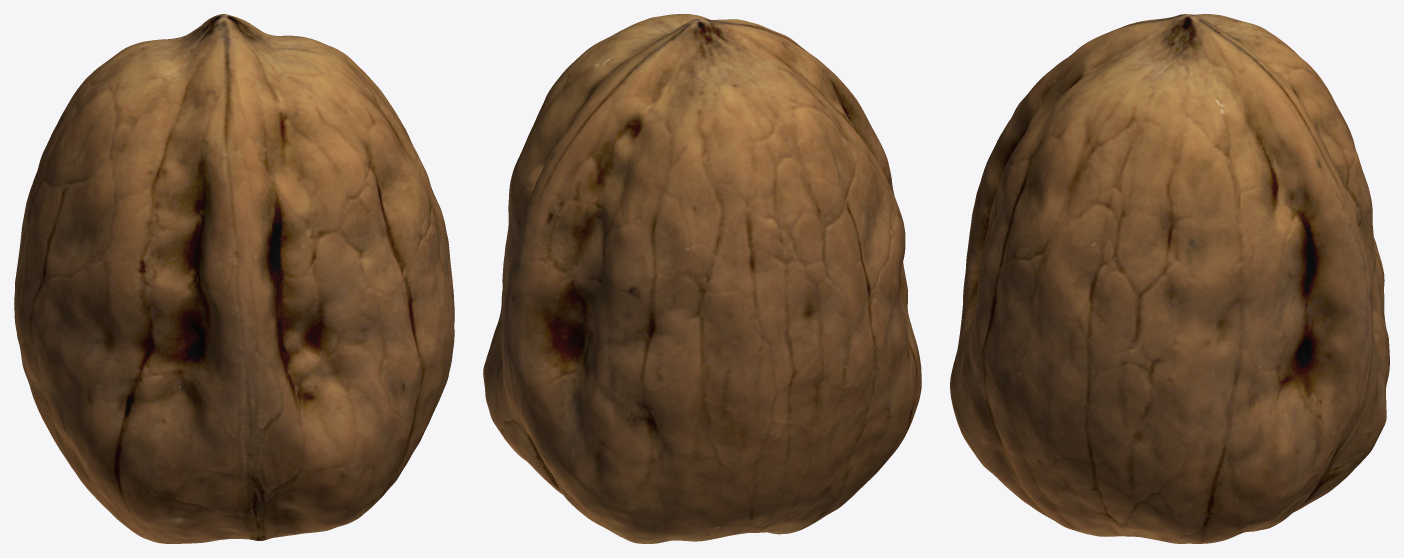
Rendered from Walnut.fbx.
3 renders of one model, left to right at view 1: azimuth 30°, elevation 25°; view 2: azimuth 150°, elevation 25°; view 3: azimuth 270°, elevation 25°, orthographic.
Parts seen in each view (by area): view 1: Object_2; view 2: Object_2; view 3: Object_2.
Boxes of the visible parts, x1=… form: Object_2: x1=14, y1=14, x2=454, y2=543; Object_2: x1=483, y1=14, x2=921, y2=543; Object_2: x1=950, y1=14, x2=1389, y2=543.
Size of the model in its own units: 25.72 by 32.36 by 25.92.
Materials: 1 (1 with a texture image).
